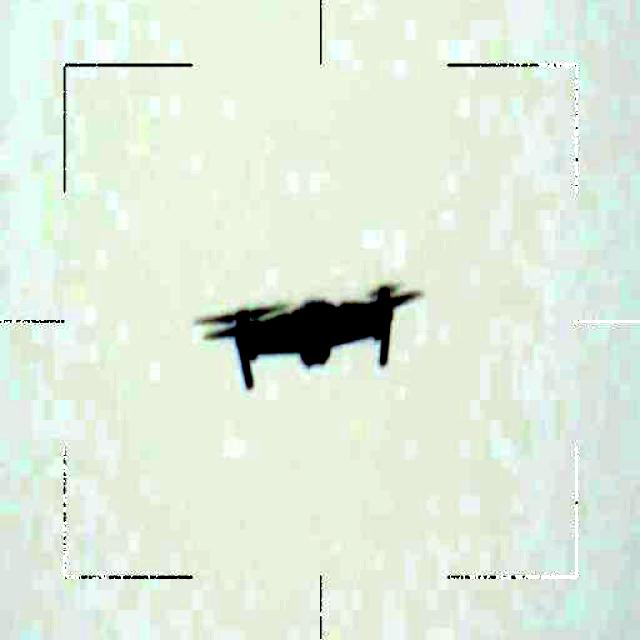bird: (199, 272, 428, 395)
